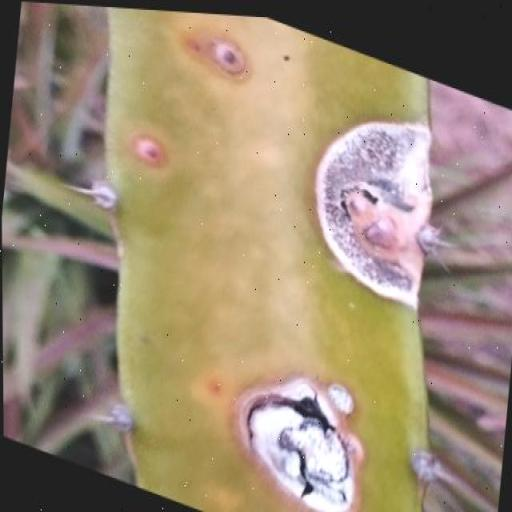stemcanker: (125, 127, 175, 180), (207, 28, 252, 86), (195, 364, 234, 411), (280, 46, 297, 68)
